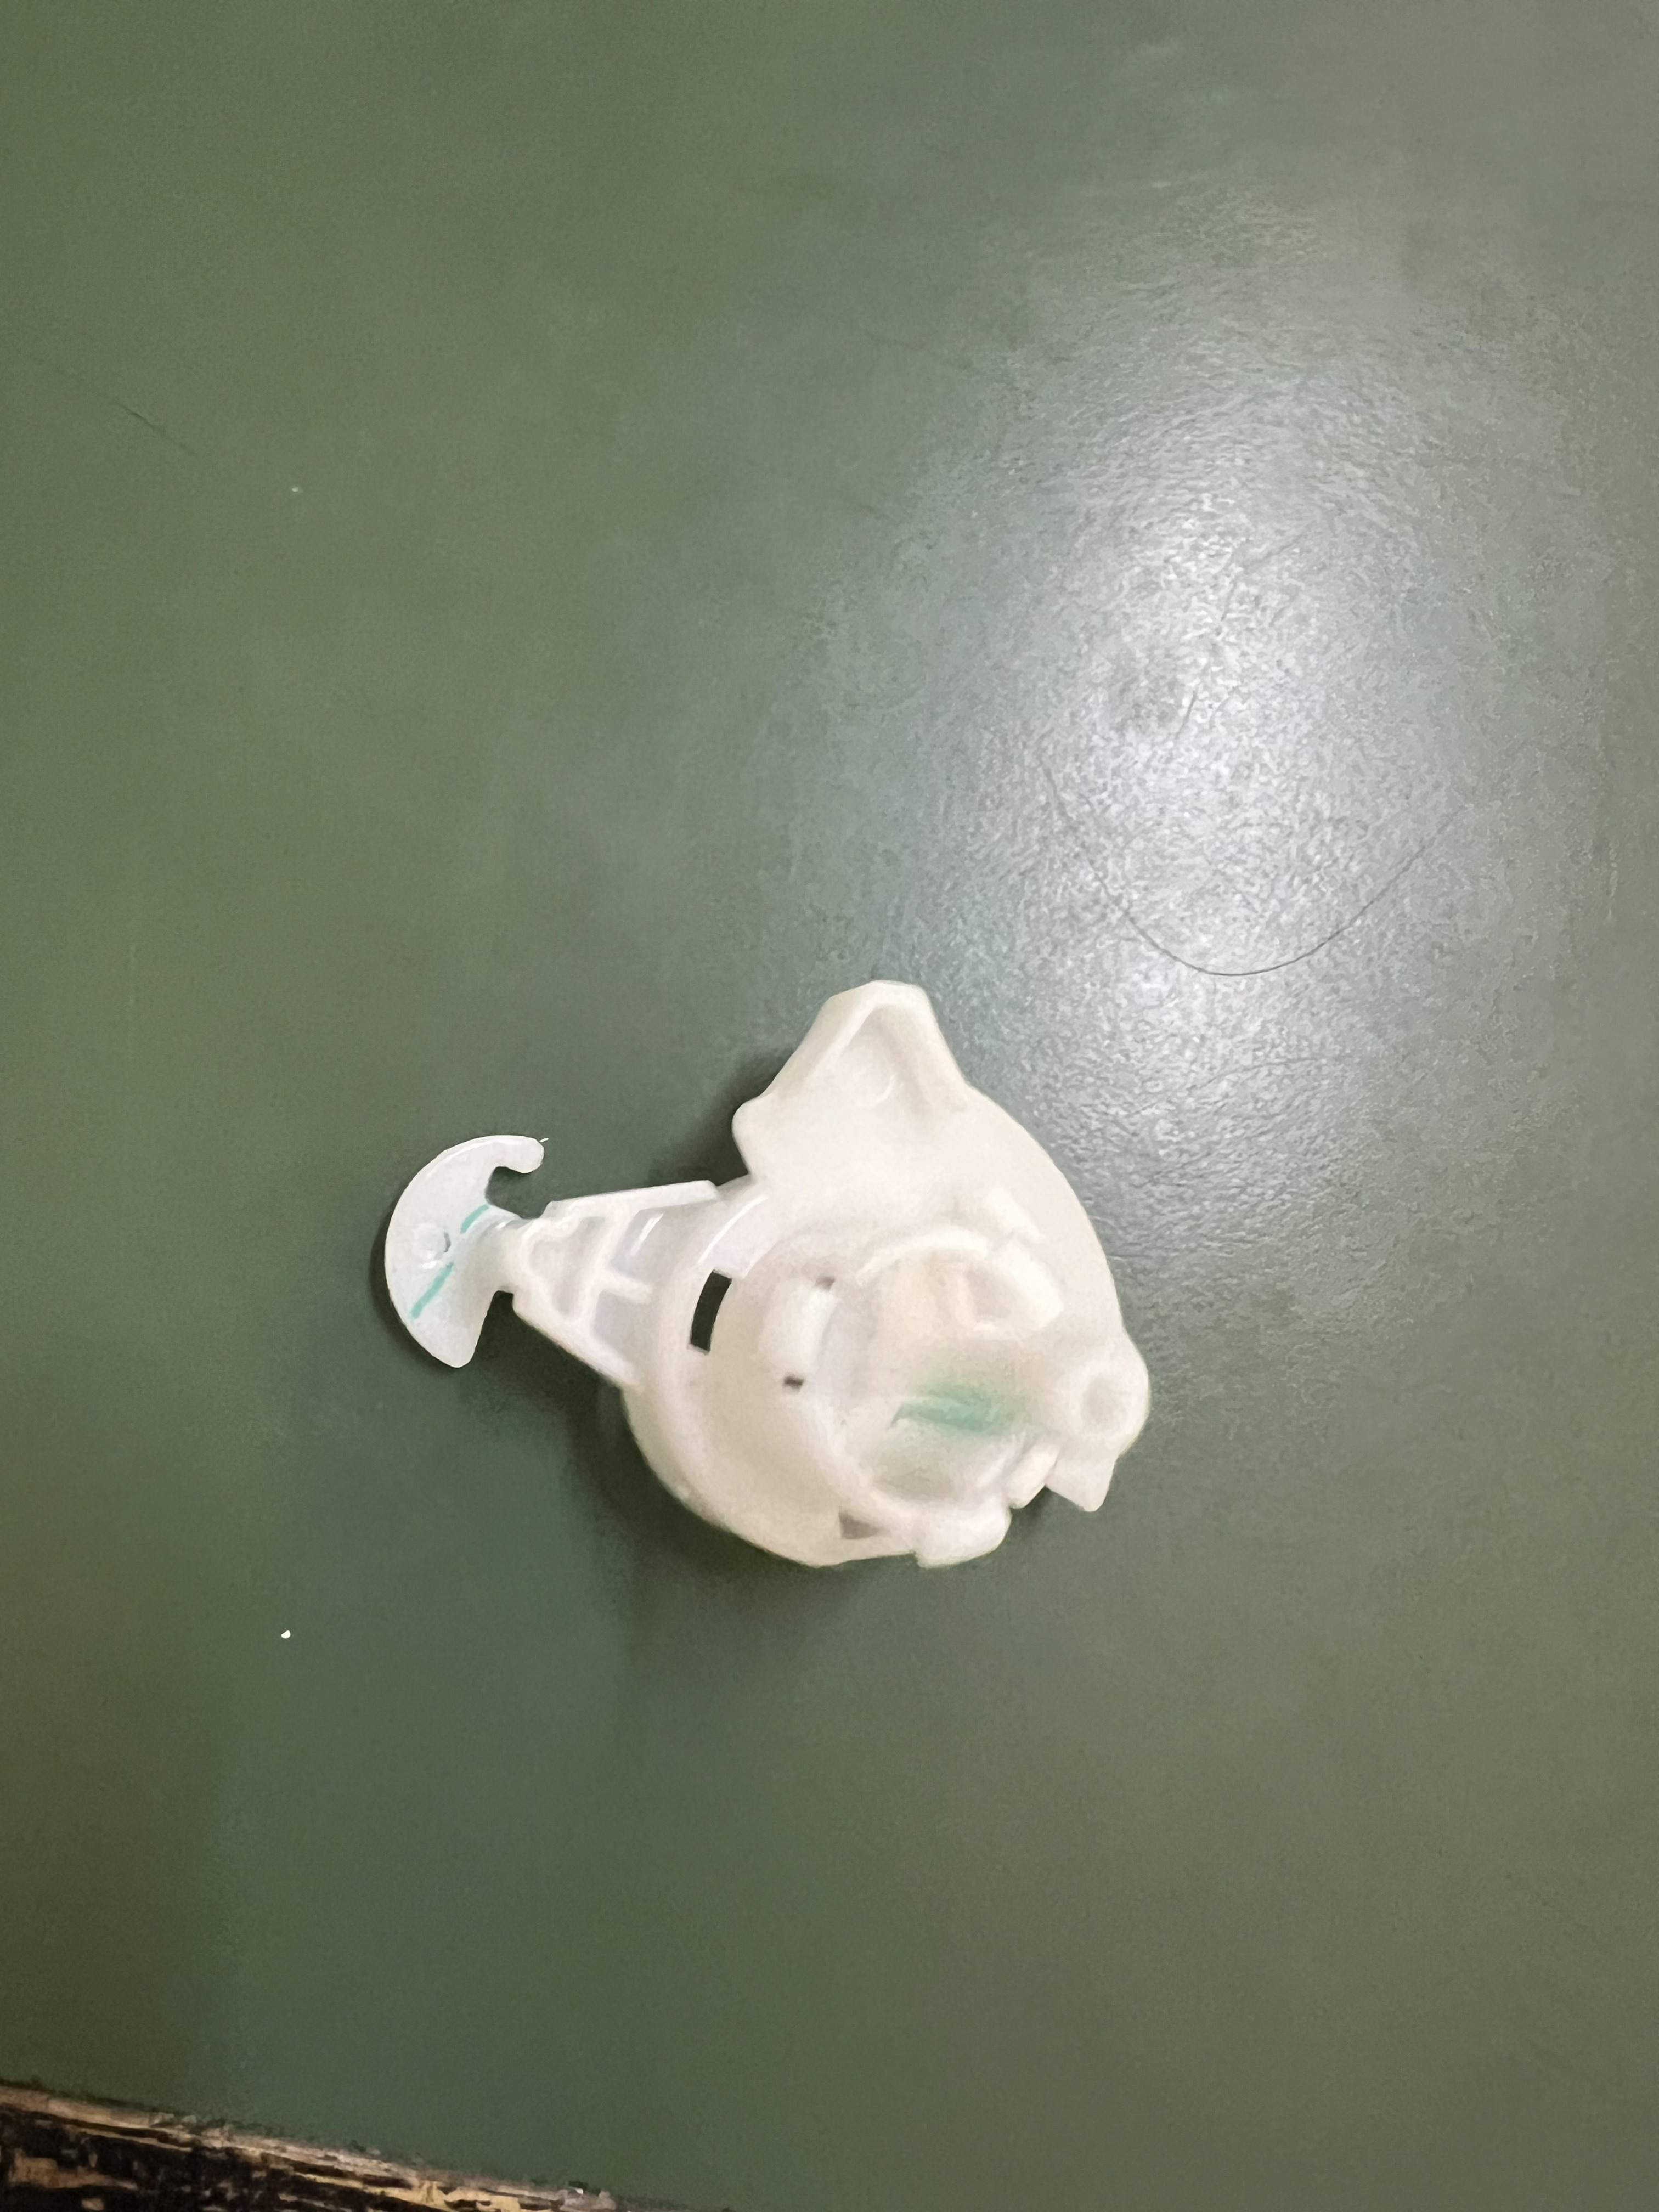drain_lever: (279, 1000, 1188, 1601)
